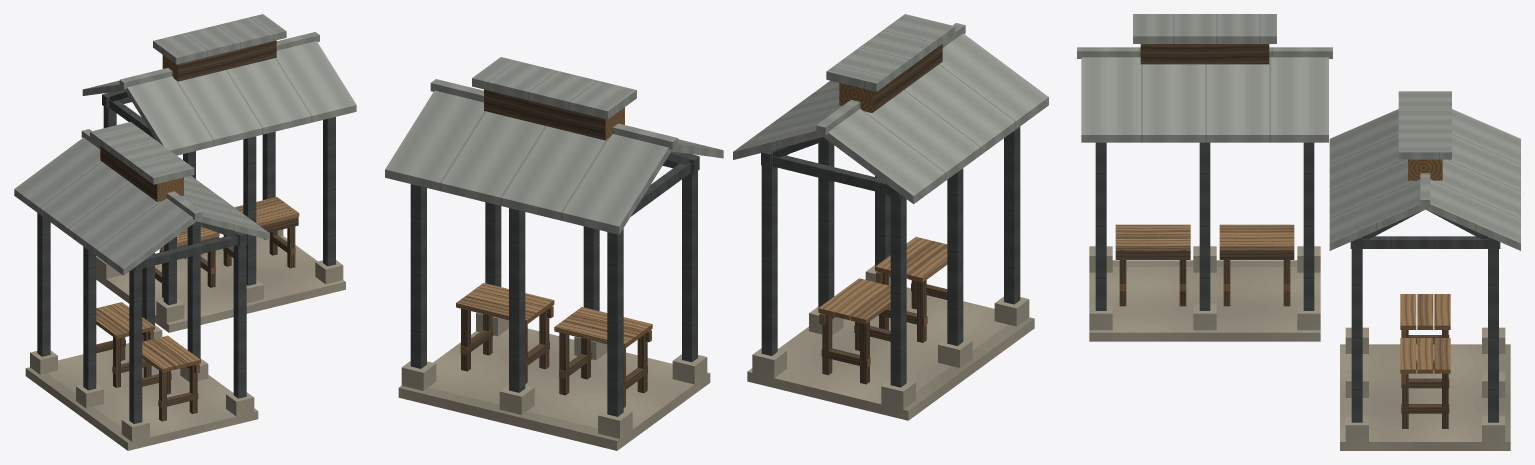
3 renders of one model, left to right at view 1: azimuth 30°, elevation 25°; view 2: azimuth 150°, elevation 25°; view 3: azimuth 270°, elevation 25°, orthographic. The views are drawn at different scales.
Parts seen in each view (by area): view 1: abidjan; view 2: abidjan; view 3: abidjan.
Boxes of the visible parts, x1,y1,x2,y2 form: abidjan: (14, 14, 356, 450); abidjan: (385, 14, 1048, 450); abidjan: (1077, 14, 1520, 450).
Bounding box in the file's own units: 3.66 × 2.5 × 3.59.
Materials: 1 (1 with a texture image).
